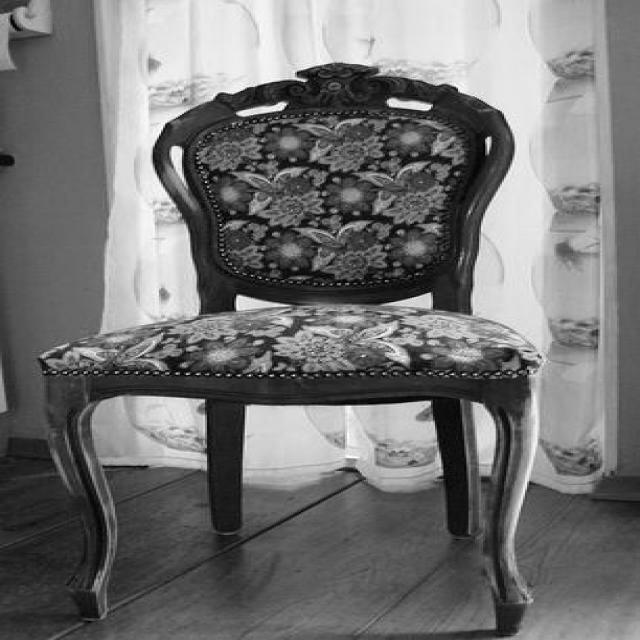chair: (32, 62, 538, 631)
